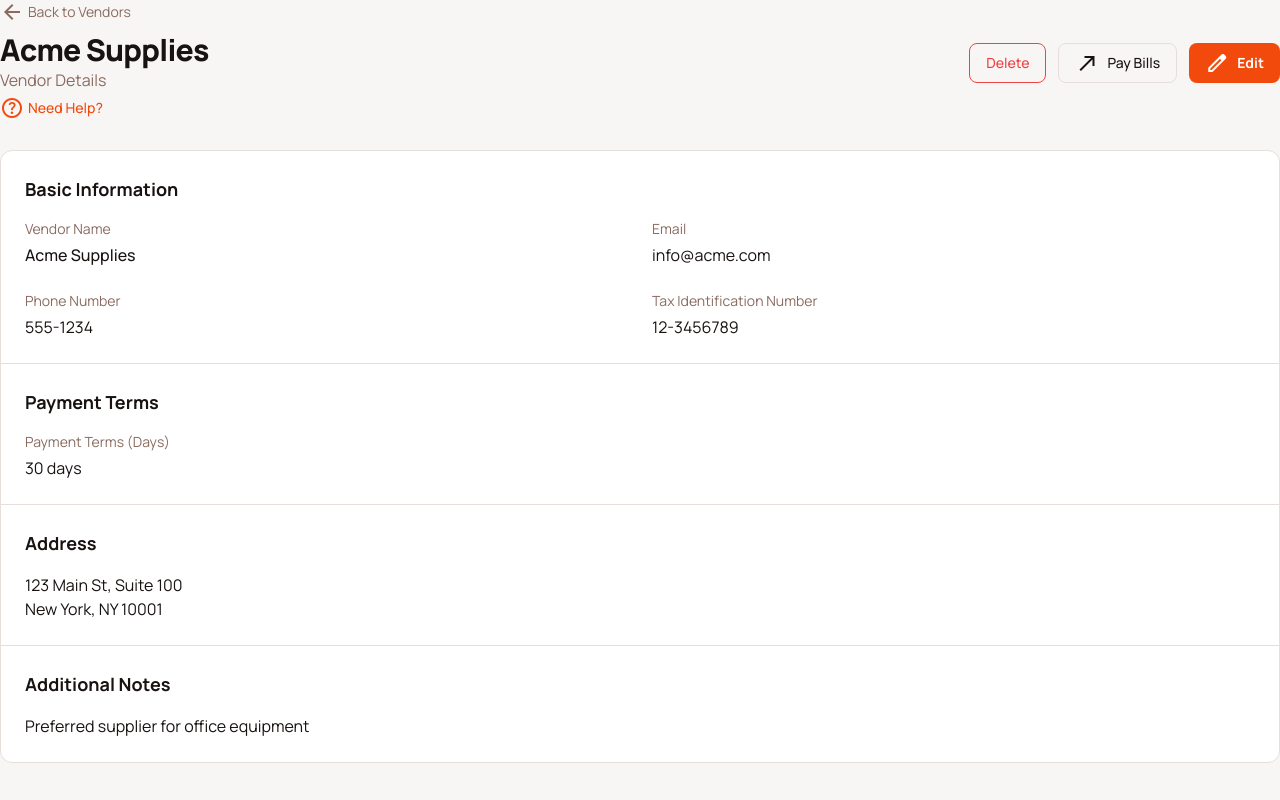
VendorDetailPage › delete functionality › closes delete modal when cancel button clicked
Click the button with test id "vendor-detail-delete": (1008, 63) [969,43,1046,83]
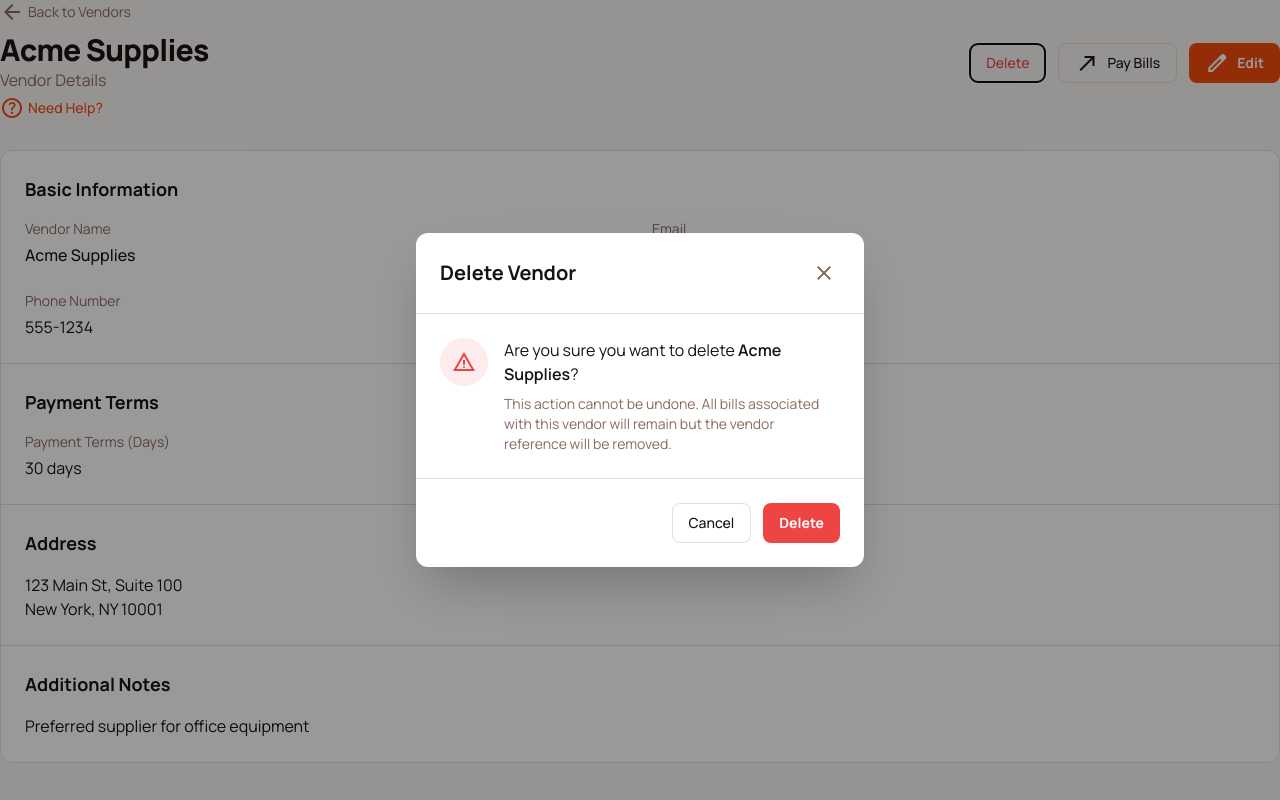
Click the button with test id "delete-cancel-button": (711, 523) [672,503,751,543]
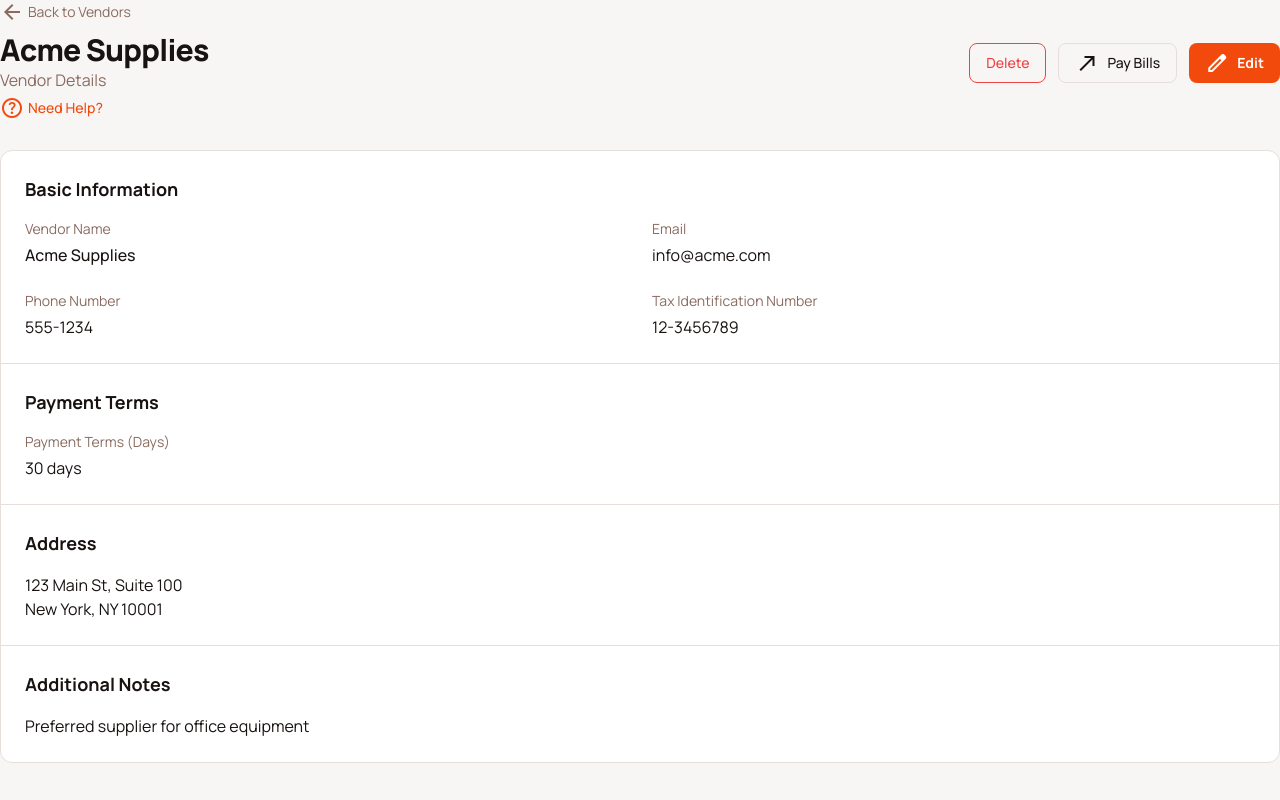
Now the element with test id "delete-confirmation-modal" is gone
